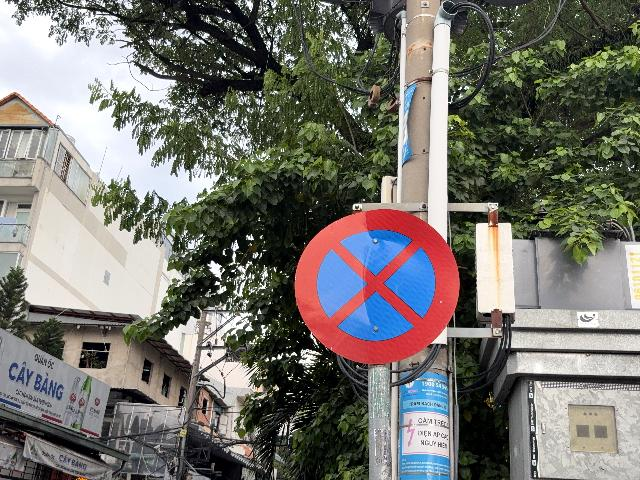cam-dung-va-do-xe: (294, 209, 460, 364)
